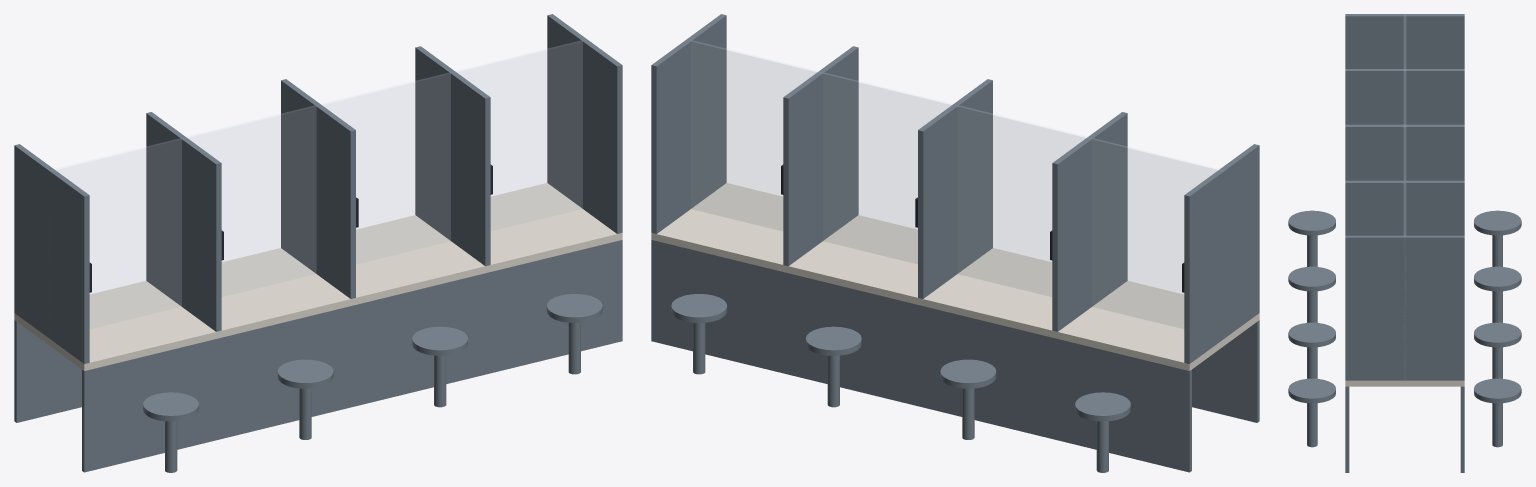
File: prs-010.glb
3 renders of one model, left to right at view 1: azimuth 30°, elevation 25°; view 2: azimuth 150°, elevation 25°; view 3: azimuth 270°, elevation 25°, orthographic. The views are drawn at different scales.
Visible parts, largest first — view 1: prison_steel, glass_clear, laminate; view 2: prison_steel, glass_clear, laminate; view 3: prison_steel, laminate, glass_clear.
Boxes of the visible parts, box(x1,y1,x2,y2) form: prison_steel: box(14, 14, 622, 472); glass_clear: box(55, 41, 582, 328); laminate: box(14, 183, 622, 370); prison_steel: box(651, 14, 1259, 472); glass_clear: box(691, 41, 1222, 328); laminate: box(651, 183, 1259, 370); prison_steel: box(1288, 14, 1521, 472); laminate: box(1345, 380, 1464, 386); glass_clear: box(1404, 16, 1405, 235).
Size of the model in its own units: 4 by 1.96 by 1.76.
